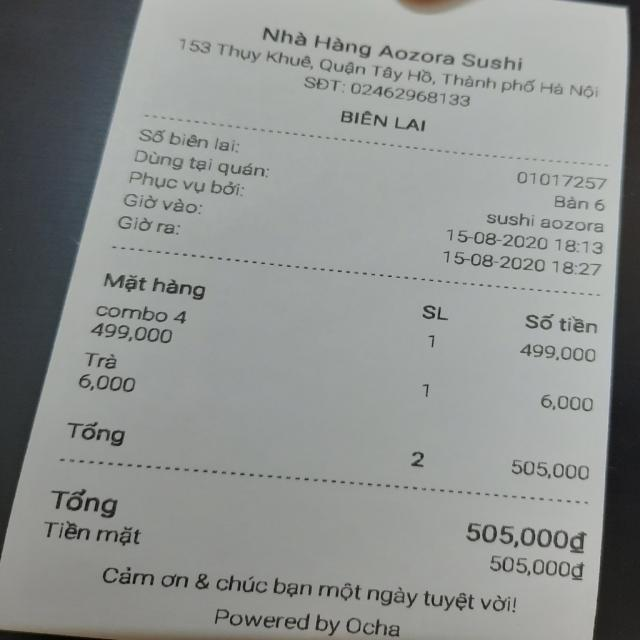Date: (444, 245, 549, 275)
Store_Name: (258, 20, 535, 74)
amount_number: (457, 516, 569, 552)
label_total: (40, 482, 125, 519)
